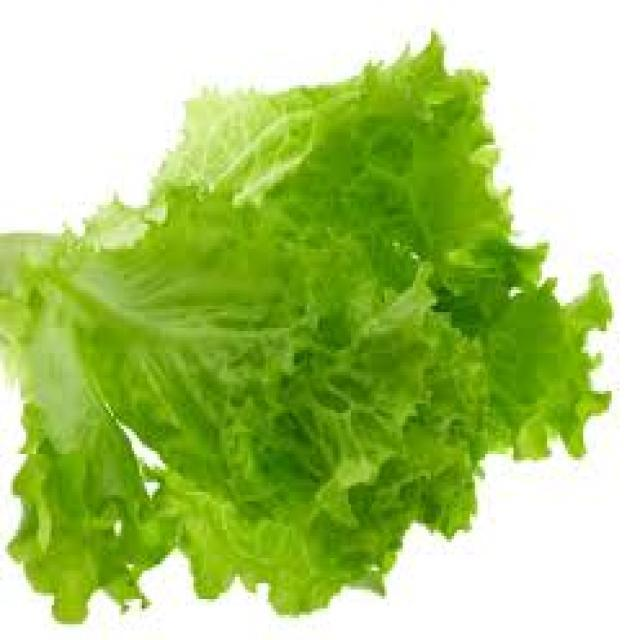Lettuce-Ready-to-Harvest: (0, 38, 610, 621)
